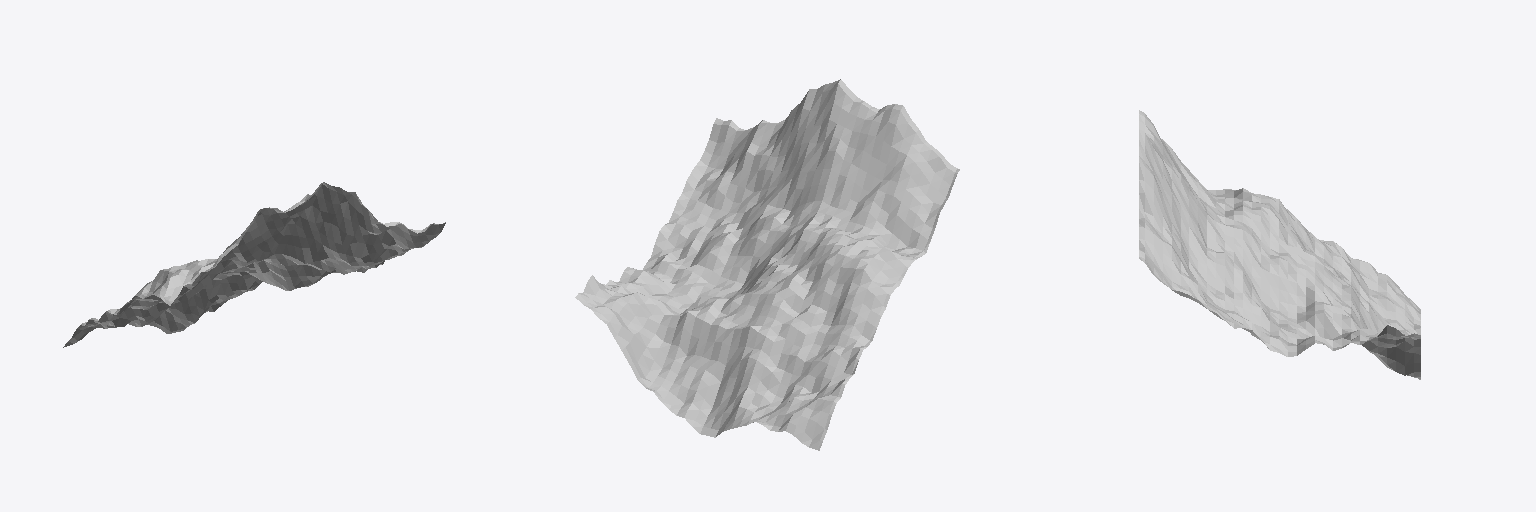
File: terrain_-3_-2.obj
The picture shows the model from 3 angles: view 1: azimuth 30°, elevation 25°; view 2: azimuth 150°, elevation 25°; view 3: azimuth 270°, elevation 25°; orthographic projection.
Visible parts, largest first — view 1: terrain_-3_-2_Plane.020; view 2: terrain_-3_-2_Plane.020; view 3: terrain_-3_-2_Plane.020.
Part boxes in pixels (bbox=[...]): terrain_-3_-2_Plane.020: bbox=[63, 182, 445, 347]; terrain_-3_-2_Plane.020: bbox=[575, 79, 959, 450]; terrain_-3_-2_Plane.020: bbox=[1139, 110, 1420, 379].
Bounding box in the file's own units: 32 × 31.55 × 32.